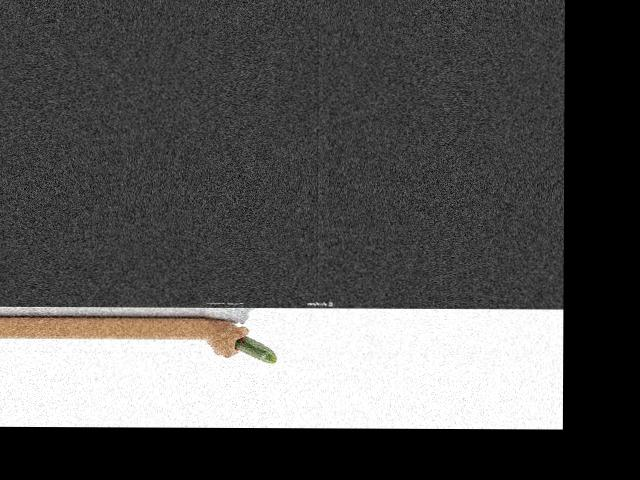cucumber: (234, 336, 276, 363)
